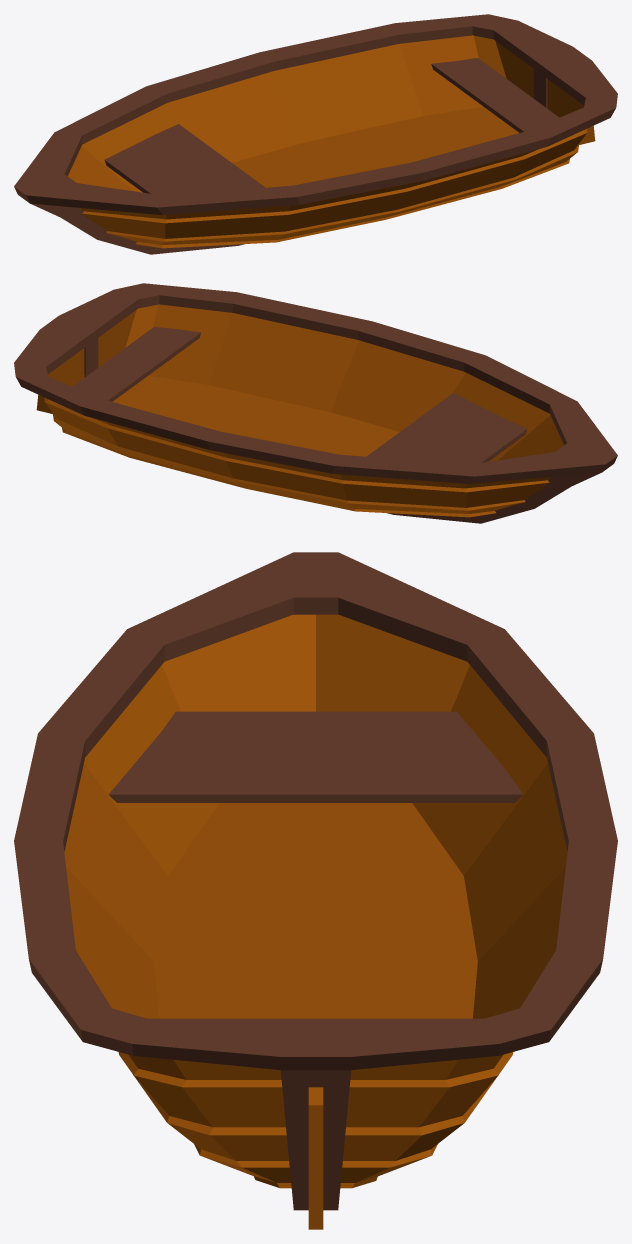
The model's file is GEO_boat.fbx.
The picture shows the model from 3 angles, top to bottom: view 1: azimuth 30°, elevation 25°; view 2: azimuth 150°, elevation 25°; view 3: azimuth 270°, elevation 25°; orthographic projection. The views are drawn at different scales.
Parts seen in each view (by area): view 1: GEO_boat; view 2: GEO_boat; view 3: GEO_boat.
Boxes of the visible parts, x1,y1,x2,y2 form: GEO_boat: [14, 14, 617, 254]; GEO_boat: [14, 283, 617, 523]; GEO_boat: [14, 552, 617, 1229].
Bounding box in the file's own units: 451 × 76.88 × 224.
